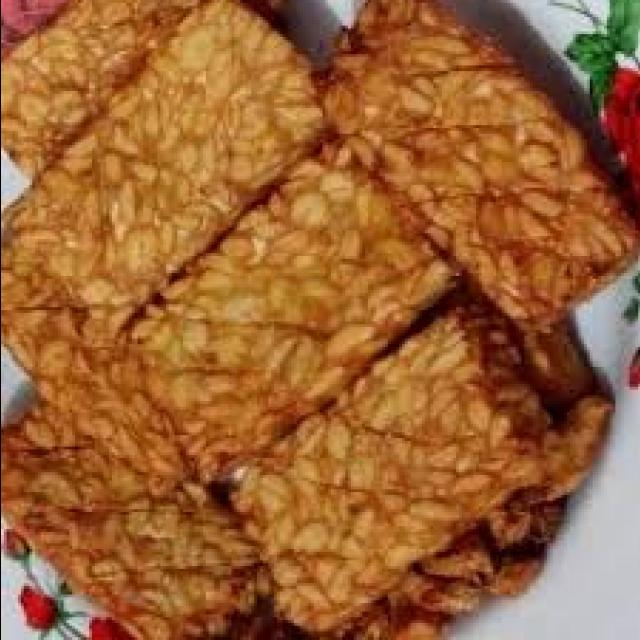tempe goreng: (313, 0, 640, 319), (253, 302, 546, 634), (145, 168, 458, 475), (9, 0, 321, 304), (0, 401, 253, 623)
